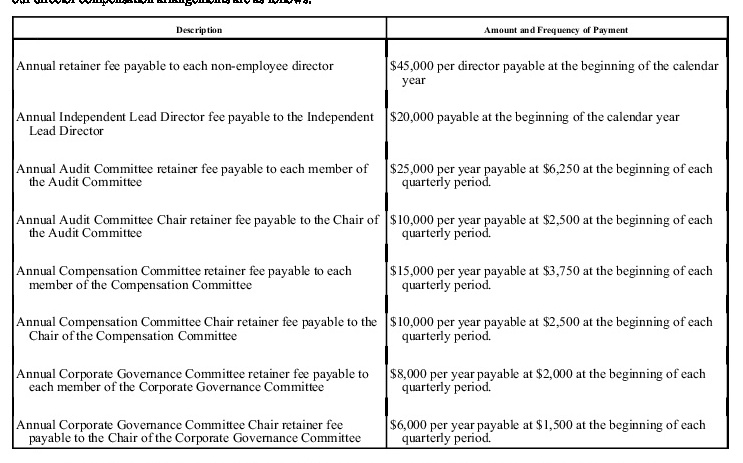table: (0, 0, 743, 463)
